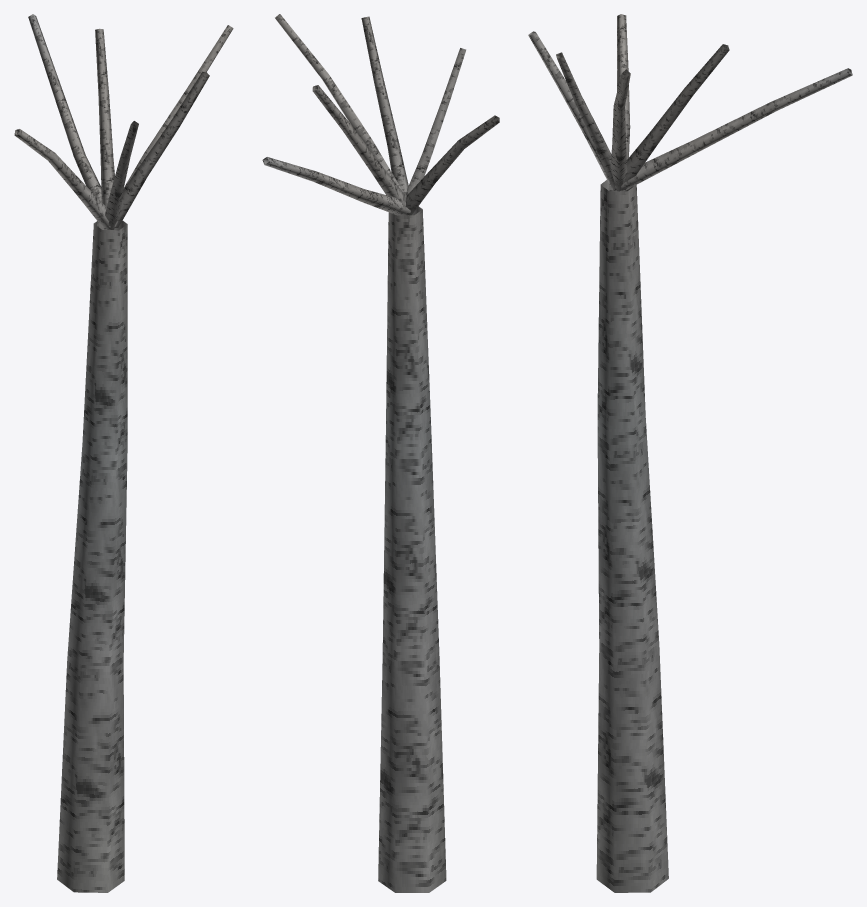
The model's file is bulb_tree_bark_l1.gltf.
The picture shows the model from 3 angles, left to right: view 1: azimuth 30°, elevation 25°; view 2: azimuth 150°, elevation 25°; view 3: azimuth 270°, elevation 25°; orthographic projection. The views are drawn at different scales.
Visible parts, largest first — view 1: bulb_tree_bark_l1; view 2: bulb_tree_bark_l1; view 3: bulb_tree_bark_l1.
Boxes of the visible parts, x1,y1,x2,y2 form: bulb_tree_bark_l1: (14,14,233,892); bulb_tree_bark_l1: (262,14,499,892); bulb_tree_bark_l1: (528,14,852,892).
Size of the model in its own units: 1.19 by 4.23 by 1.42.
1 material, 1 textured.
